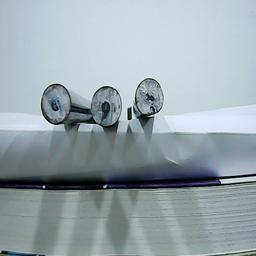pen: (89, 84, 123, 126), (132, 77, 166, 119), (39, 83, 70, 125)
